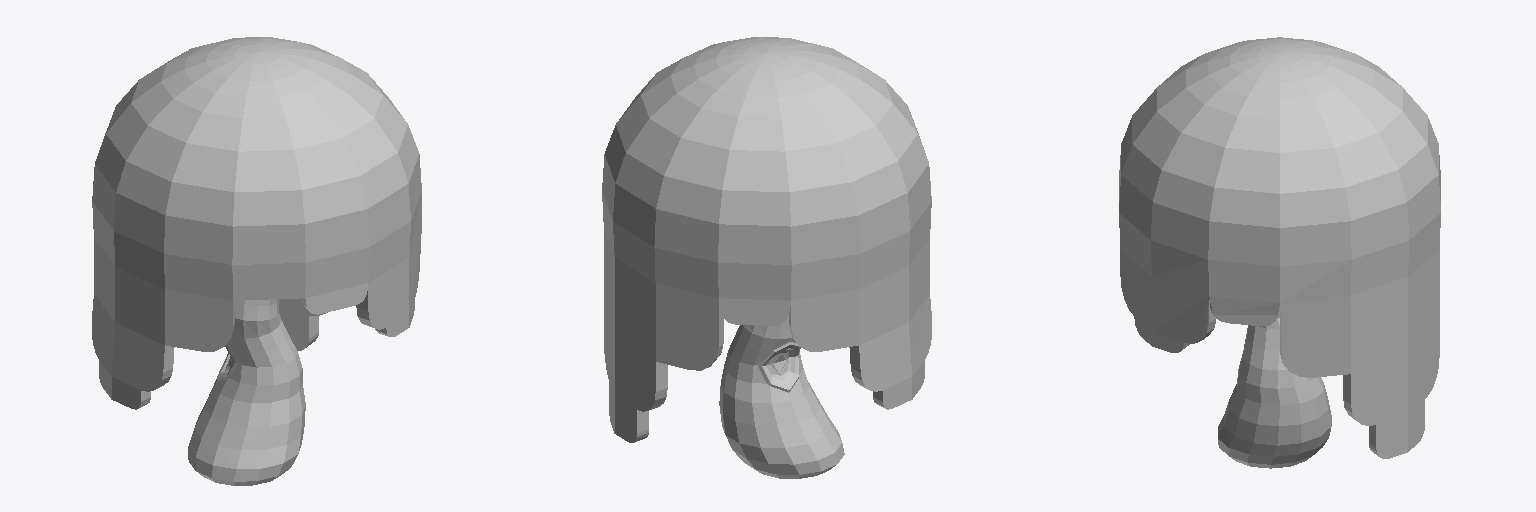
Rendered from weeping willow.obj.
3 renders of one model, left to right at view 1: azimuth 30°, elevation 25°; view 2: azimuth 150°, elevation 25°; view 3: azimuth 270°, elevation 25°, orthographic.
Parts seen in each view (by area): view 1: pCylinder1; view 2: pCylinder1; view 3: pCylinder1.
Part boxes in pixels (bbox=[...]): pCylinder1: bbox=[92, 37, 421, 485]; pCylinder1: bbox=[602, 37, 931, 478]; pCylinder1: bbox=[1119, 37, 1440, 468].
Bounding box in the file's own units: 3.14 × 4.22 × 3.03.